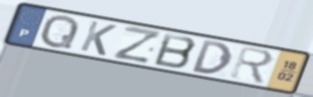B: (152, 32, 199, 71)
D: (191, 39, 234, 76)
K: (77, 19, 119, 58)
Q: (38, 14, 82, 51)
R: (228, 44, 275, 86)
Z: (111, 24, 164, 65)
